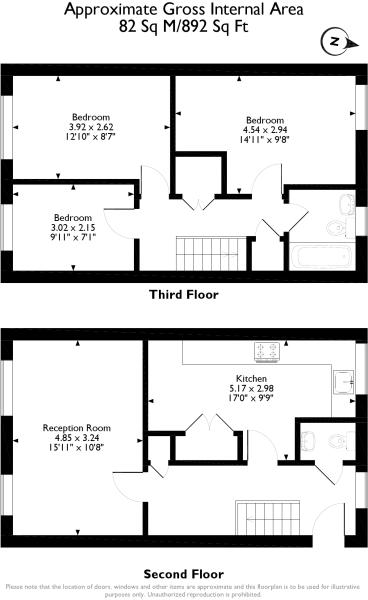GrossArea: (61, 1, 306, 38)
